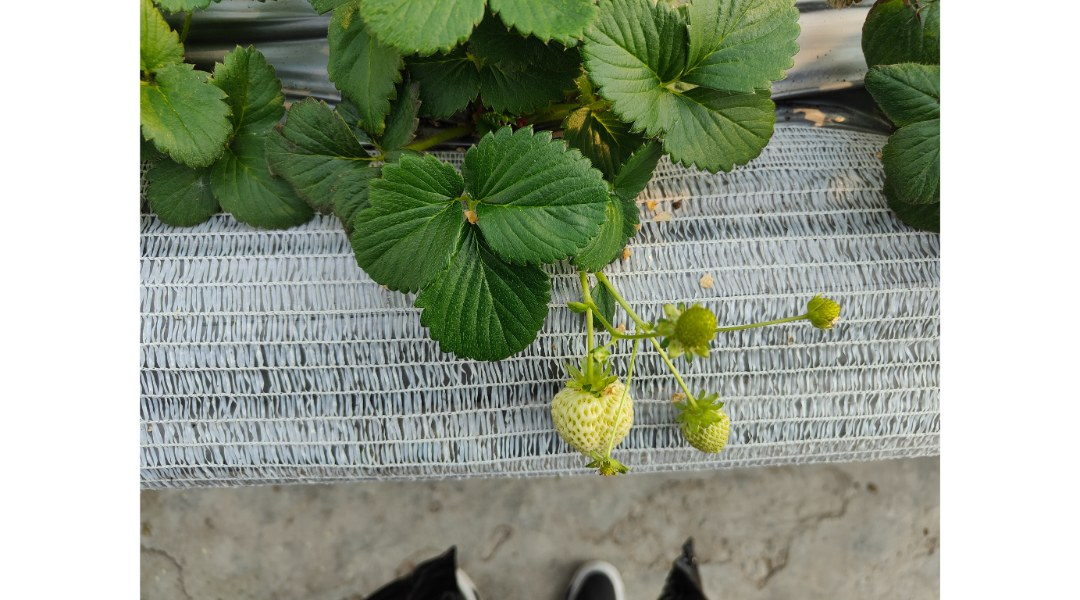berry: (535, 363, 647, 458), (669, 390, 744, 460), (652, 297, 729, 359), (800, 290, 857, 335)
strain: (653, 341, 690, 406), (576, 271, 599, 360), (605, 276, 639, 324), (729, 311, 802, 331)
